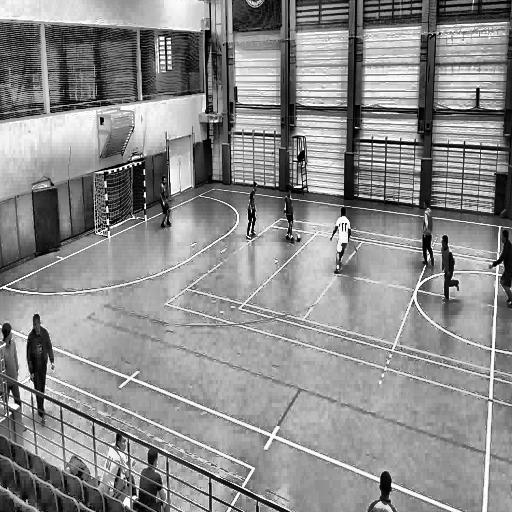ball: (295, 232, 302, 245)
player: (25, 310, 56, 424), (489, 229, 512, 310), (328, 205, 351, 280), (439, 234, 460, 306), (4, 321, 21, 404), (419, 198, 435, 270), (243, 180, 260, 241), (282, 186, 296, 246), (159, 174, 172, 231)
